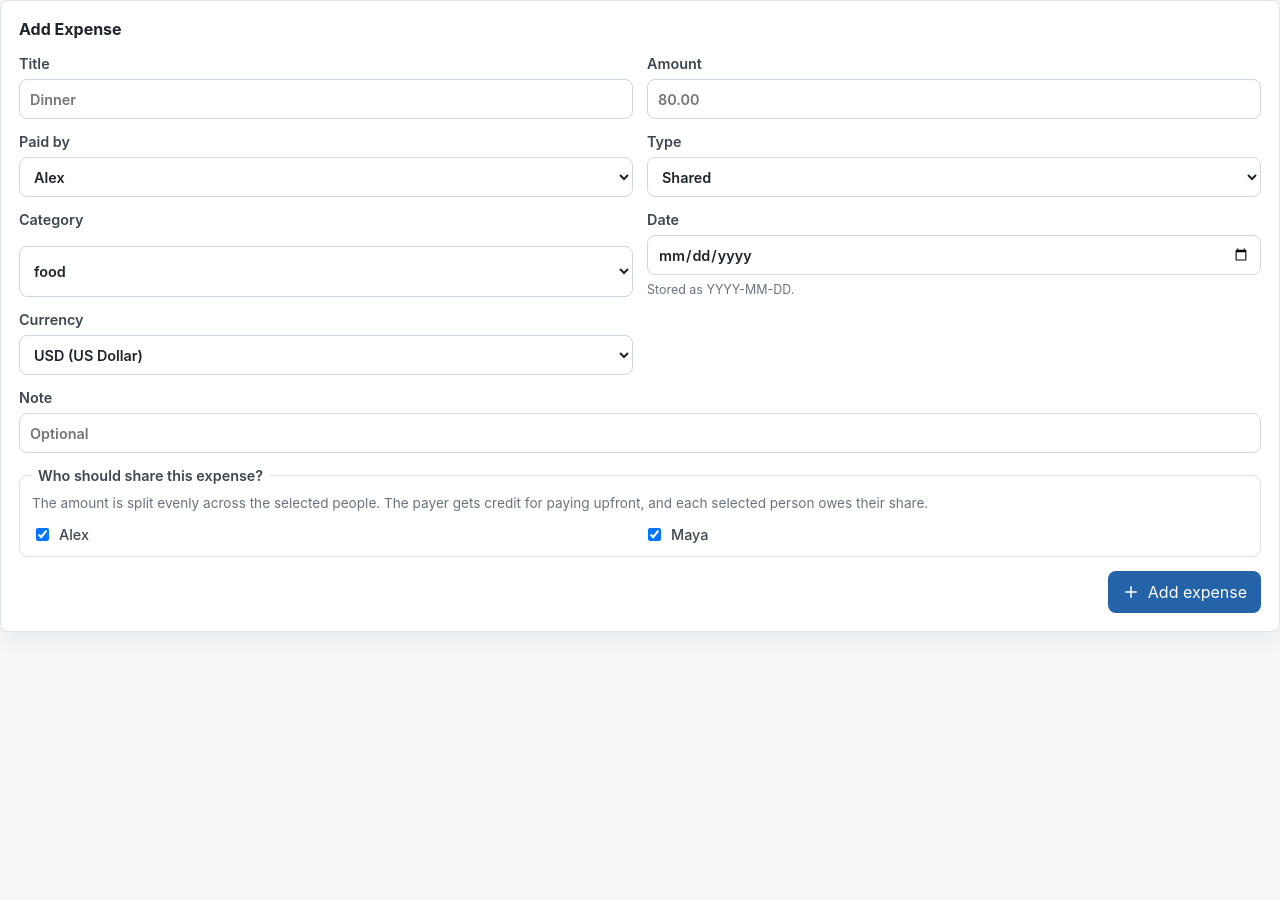
Scenario: ExpenseForm validation › shows an error and does not submit when the title is blank
The width and height of the screenshot is (1280, 900).
Type "10" into the number field labelled "Amount" at (954, 99), box [647,79,1261,119]
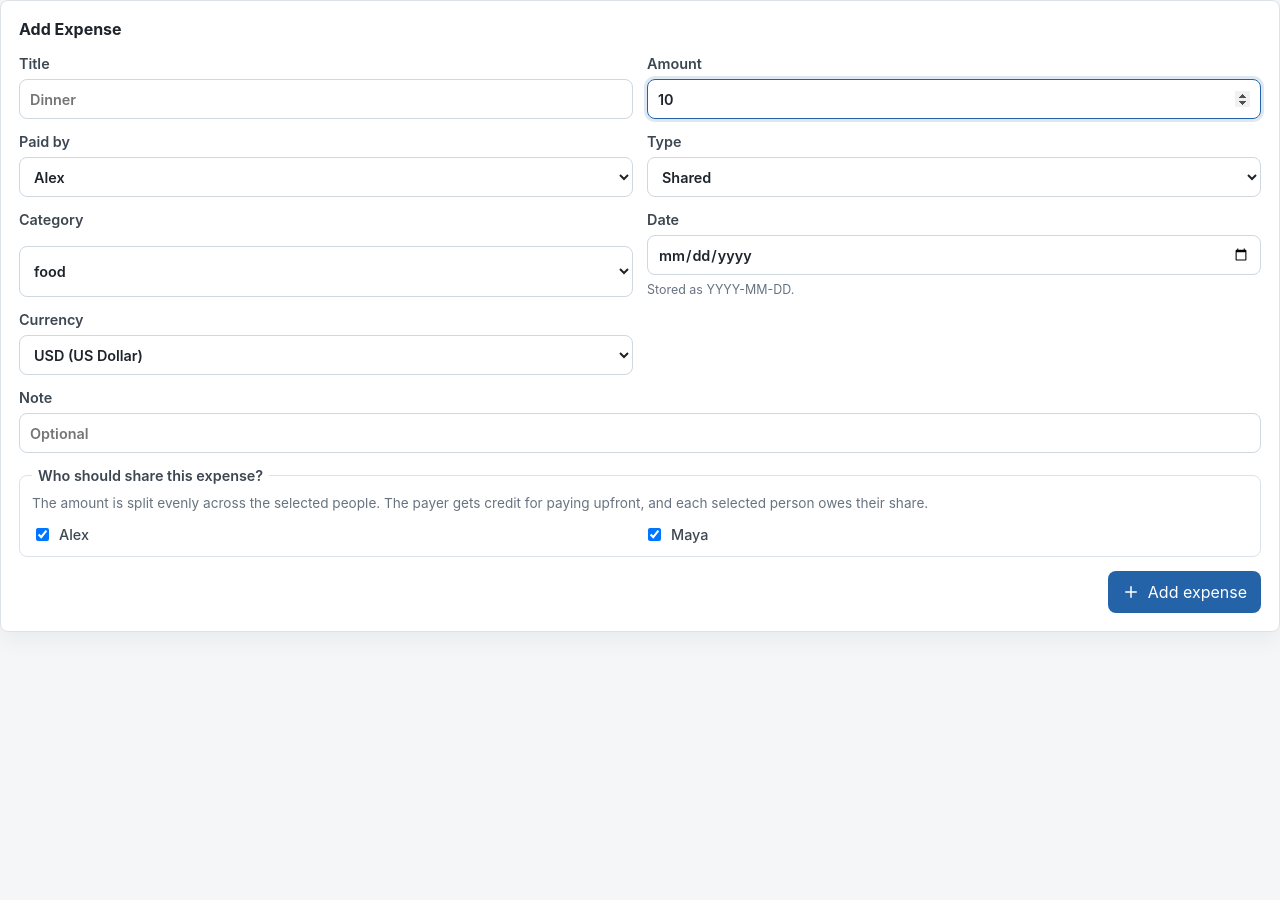
Click the button "Add expense" at (1184, 592), box [1108,571,1261,613]
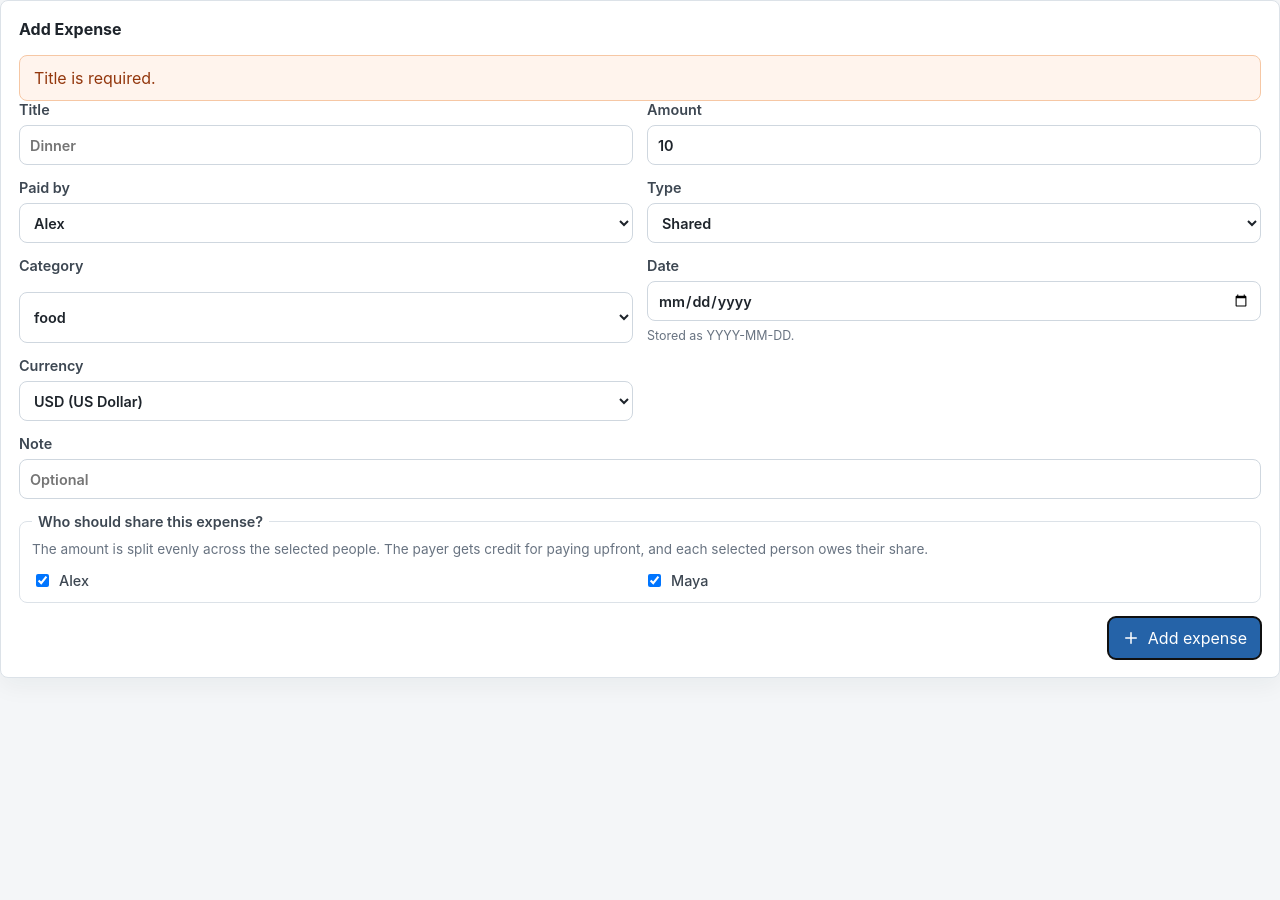
expect the text "Title is required." is shown: met, box [19,55,1261,101]
